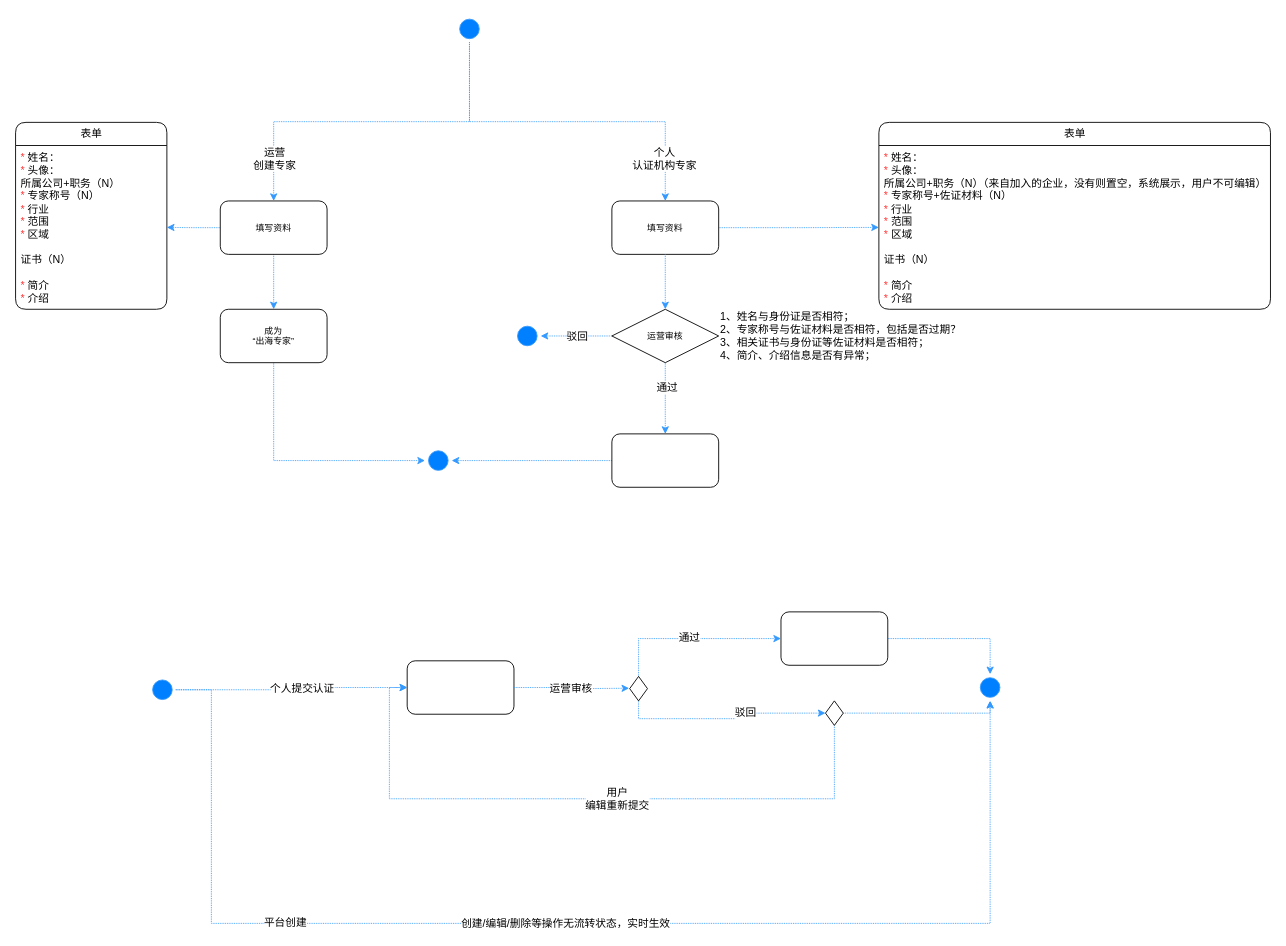
Some shapes in this 1286 by 946 pixel diagram are drawn without their labels. The shapes that lost their labels are listed below. From the top down, each one's centre as x and y in pixels, then its label:
At (x=665, y=460): "成为“机构专家”".
At (x=834, y=638): "机构专家".
At (x=460, y=687): "审核中".
